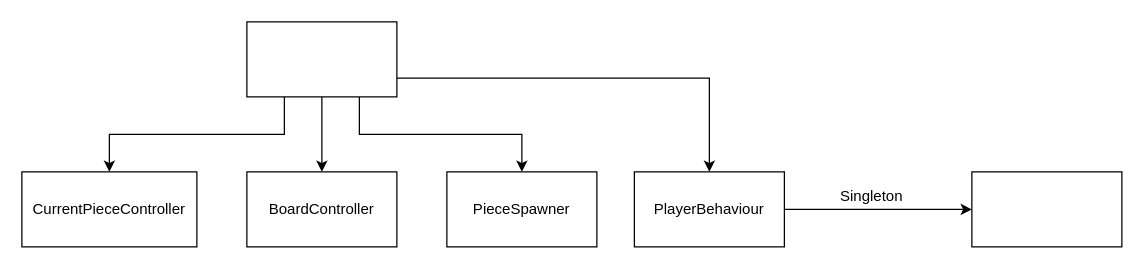
Image size: 1144x269. Some labels were removed from this diagram. Here are the shapes that lost their labels. From the top down, the box of each, then its label:
(246, 21, 397, 97): GamePlayController
(971, 171, 1122, 247): InputsController
